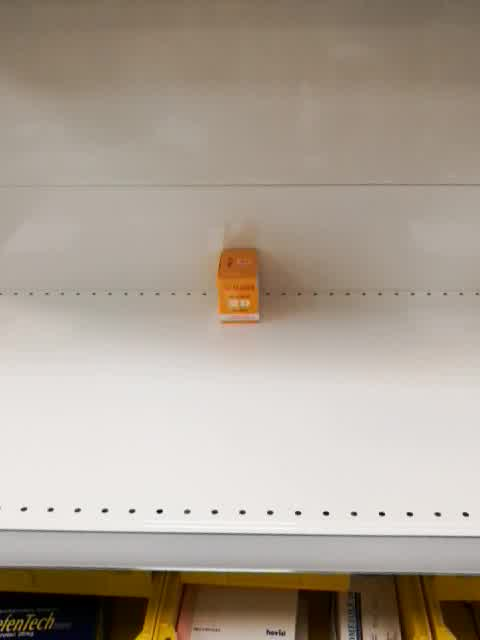jasminetea: (214, 246, 258, 325)
